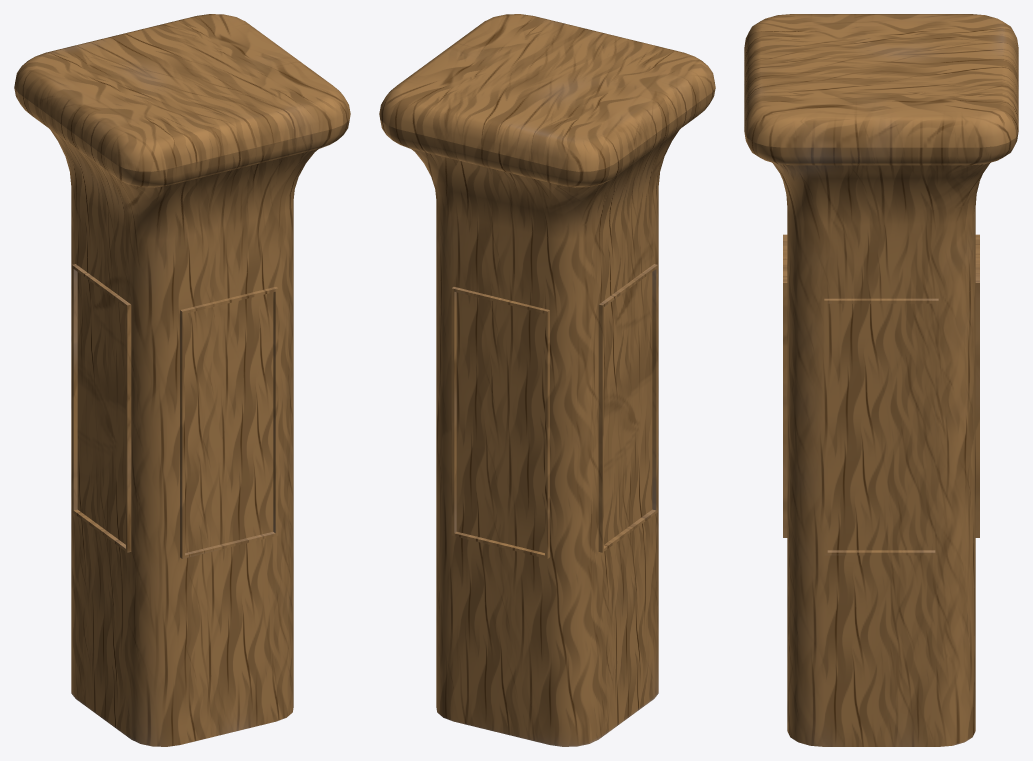
The model's file is pedestal.fbx.
3 renders of one model, left to right at view 1: azimuth 30°, elevation 25°; view 2: azimuth 150°, elevation 25°; view 3: azimuth 270°, elevation 25°, orthographic. The views are drawn at different scales.
Visible parts, largest first — view 1: pedestal; view 2: pedestal; view 3: pedestal.
Boxes of the visible parts, x1=… form: pedestal: x1=14, y1=14, x2=350, y2=746; pedestal: x1=379, y1=14, x2=715, y2=746; pedestal: x1=744, y1=14, x2=1018, y2=746.
Bounding box in the file's own units: 50.47 × 130 × 50.47.
